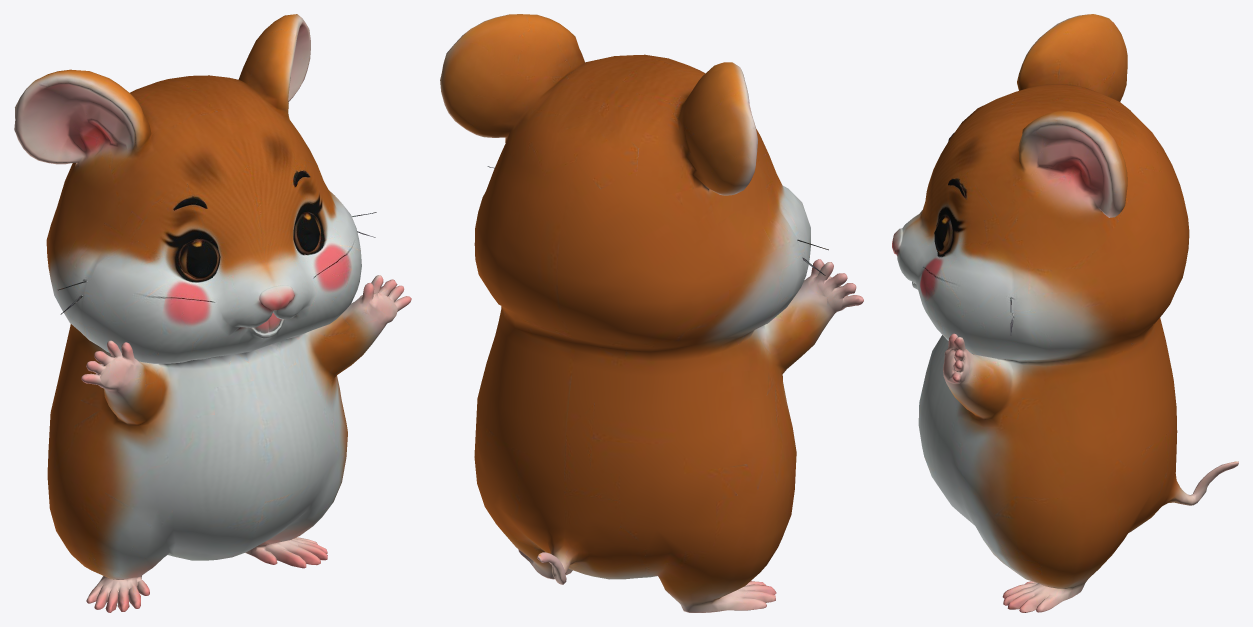
File: c_kongtteok.glb
3 renders of one model, left to right at view 1: azimuth 30°, elevation 25°; view 2: azimuth 150°, elevation 25°; view 3: azimuth 270°, elevation 25°, orthographic. The views are drawn at different scales.
Size of the model in its own units: 0.6382 by 0.9517 by 0.6069.
Materials: 1 (1 with a texture image).
